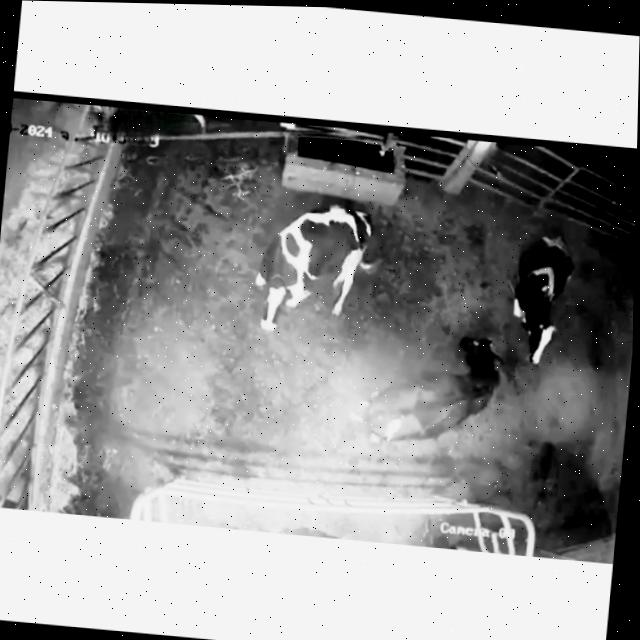lay: (229, 192, 403, 352), (359, 302, 515, 470), (493, 217, 610, 385)
